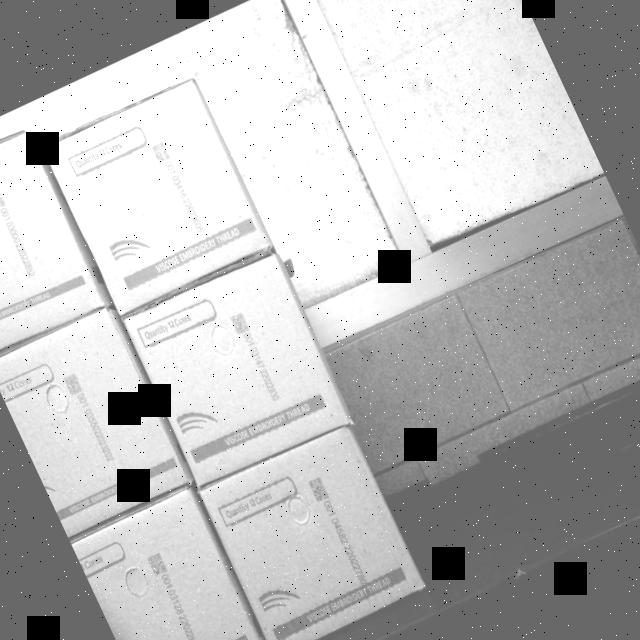box: (41, 75, 274, 320), (124, 254, 354, 491), (200, 423, 425, 640), (0, 306, 194, 540), (73, 490, 277, 640), (0, 123, 106, 360)
